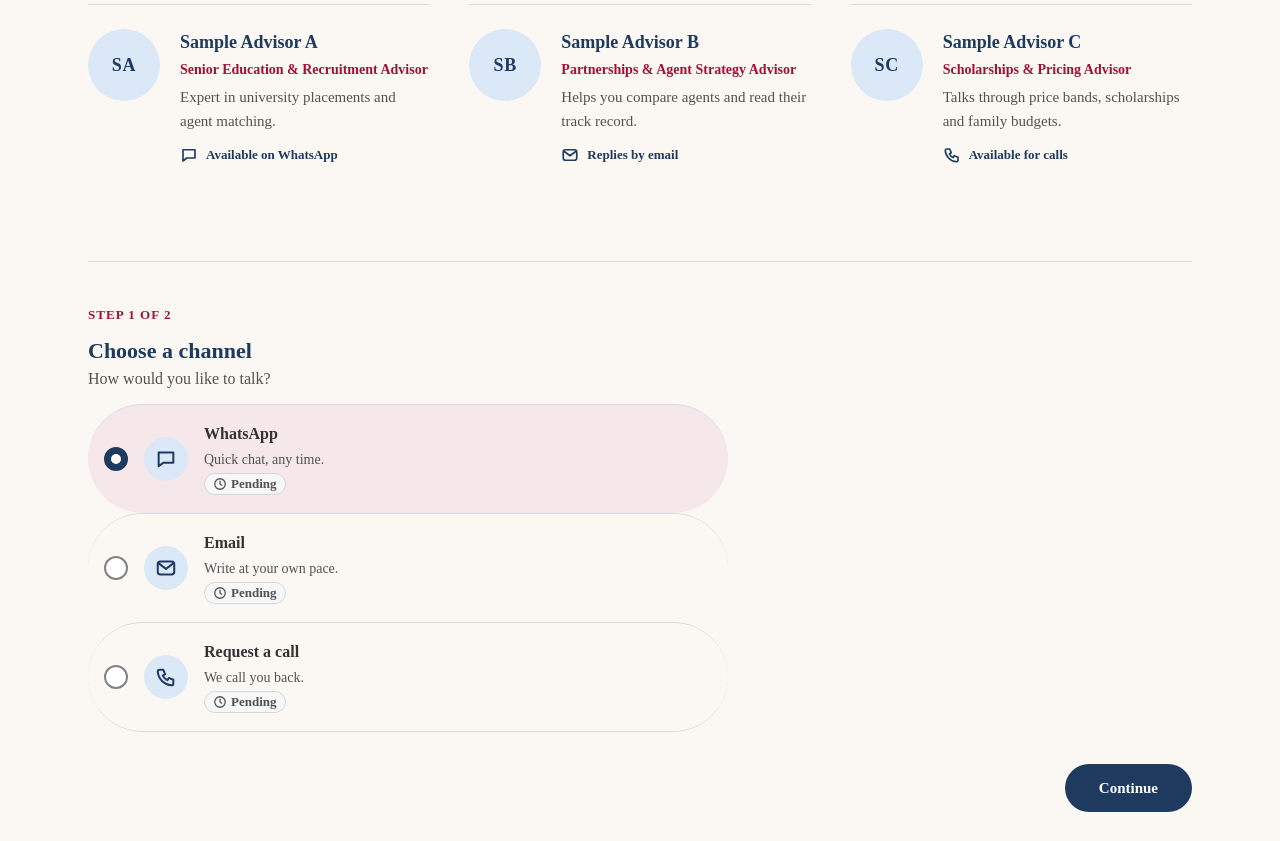
AdvisorRequest › posts a valid request and shows the success state with the first name and chips
The image size is (1280, 841).
(page scrolled)
Click the button "Continue" at coordinates (1128, 788), box [1065,764,1192,812]
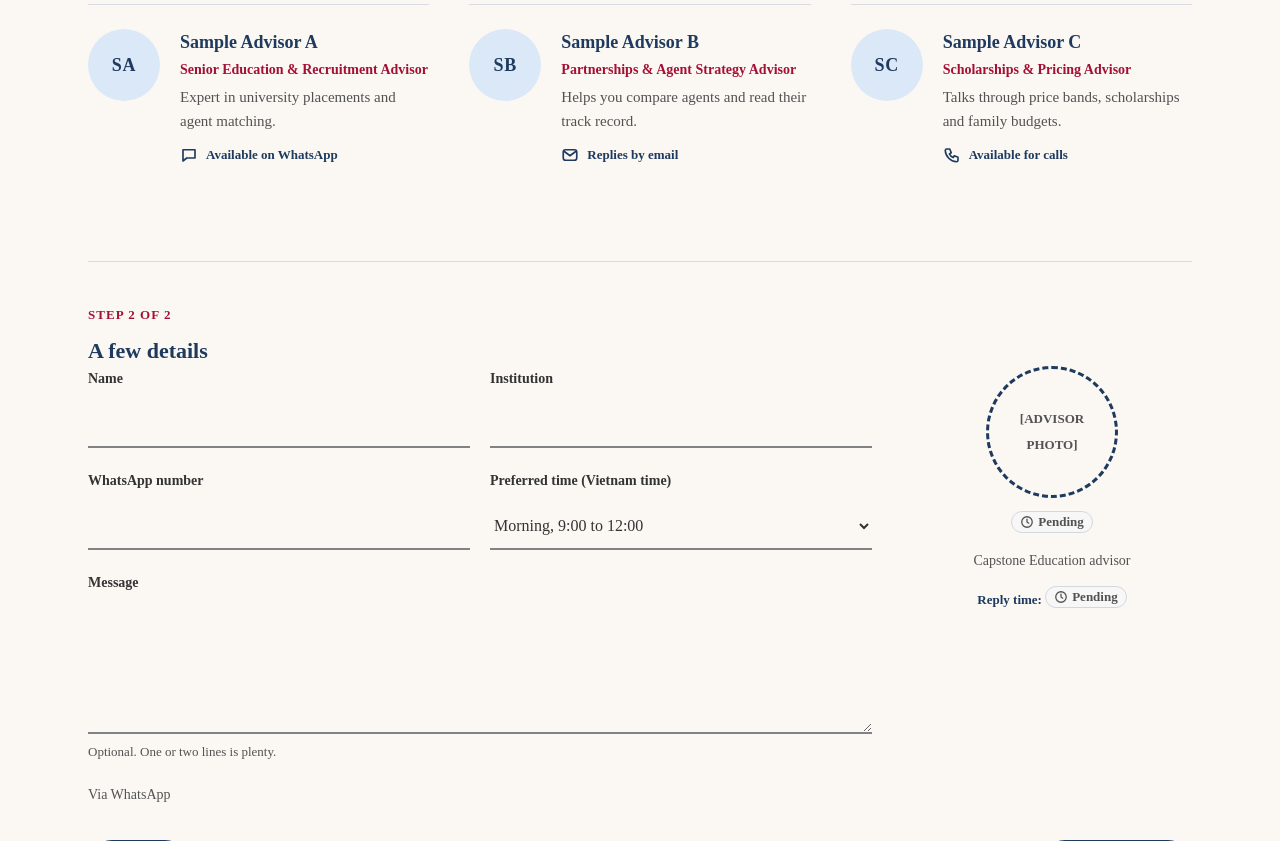
Type "Linh Tran" into the field labelled "Name" at coordinates (279, 424), box [88,400,470,448]
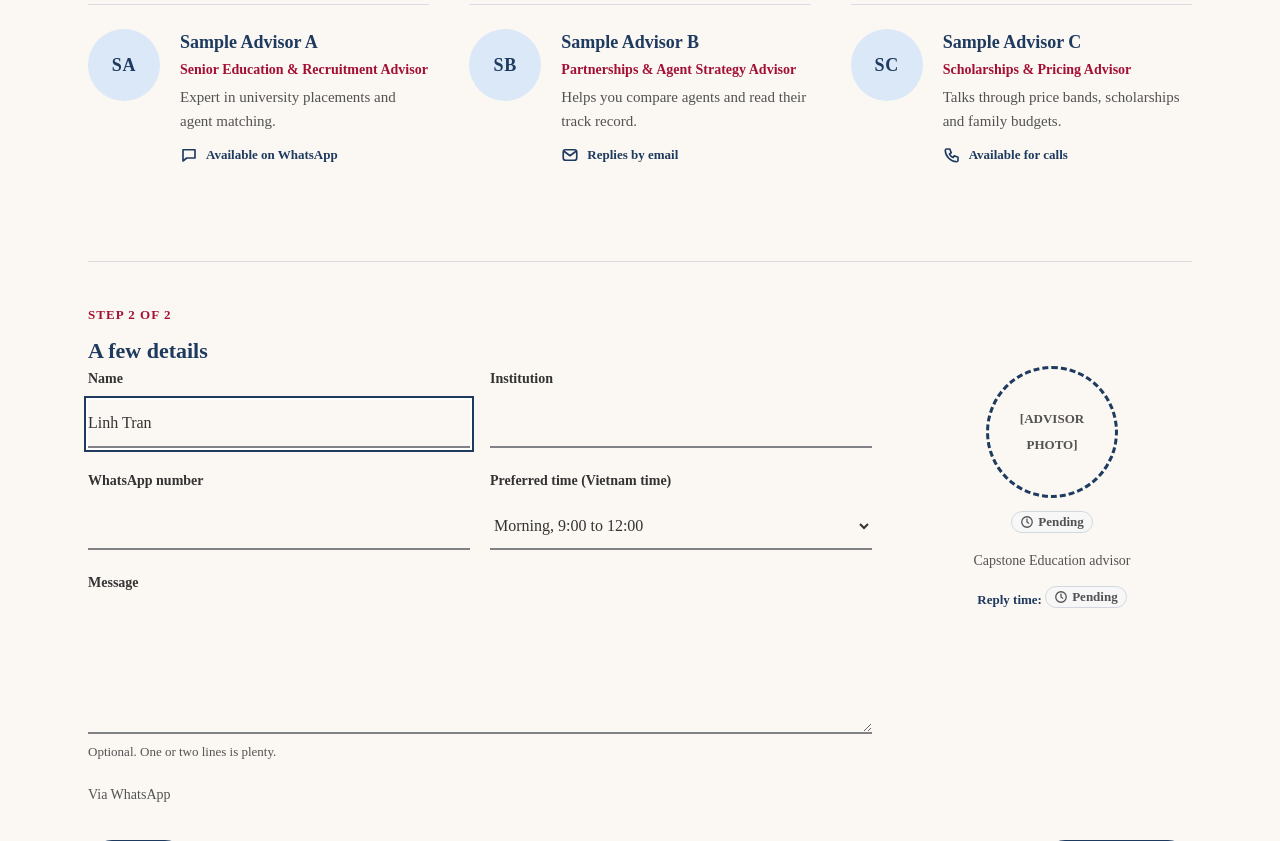
Type "+84 90 123 4567" into the field labelled "WhatsApp number" at coordinates (279, 526), box [88,502,470,550]
(page scrolled)
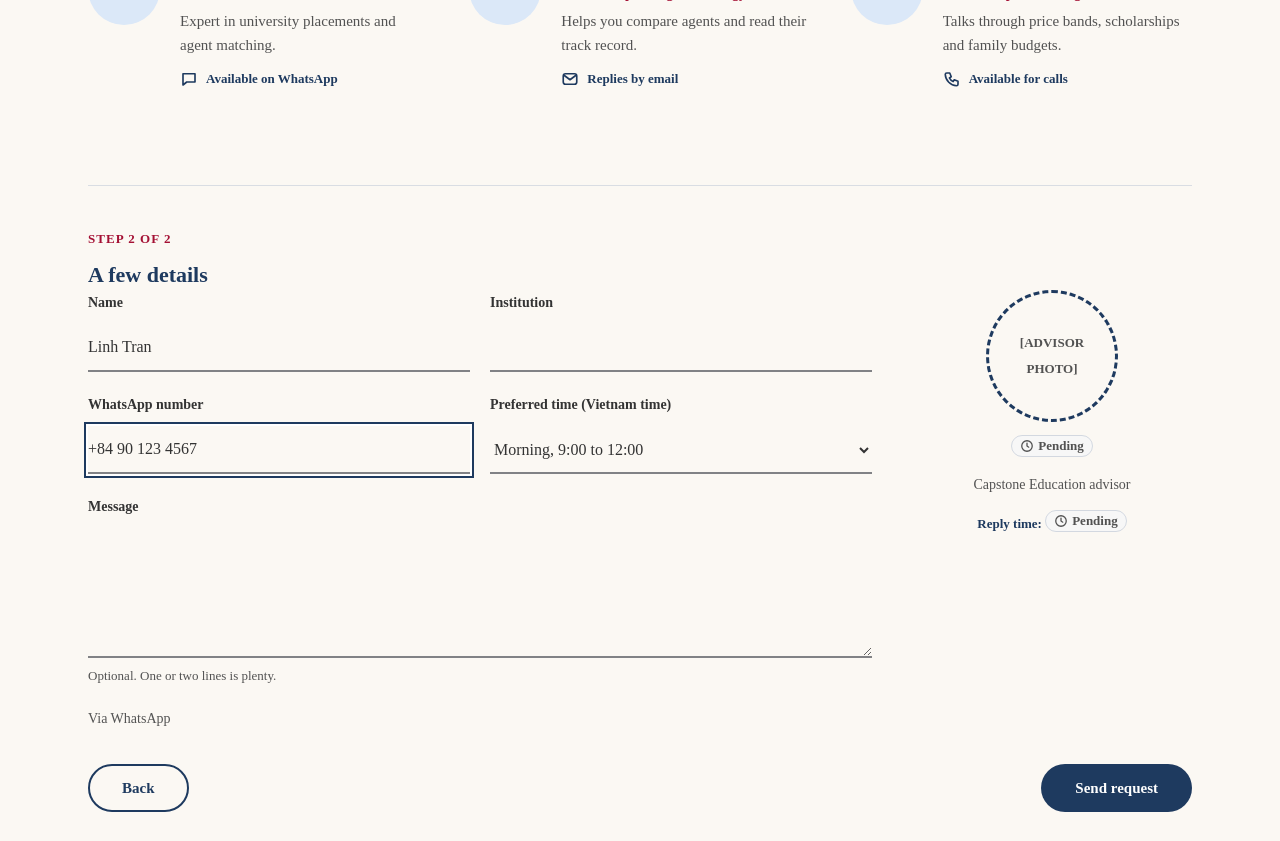
Click the button "Send request" at coordinates (1117, 788), box [1041,764,1192,812]
(page scrolled)
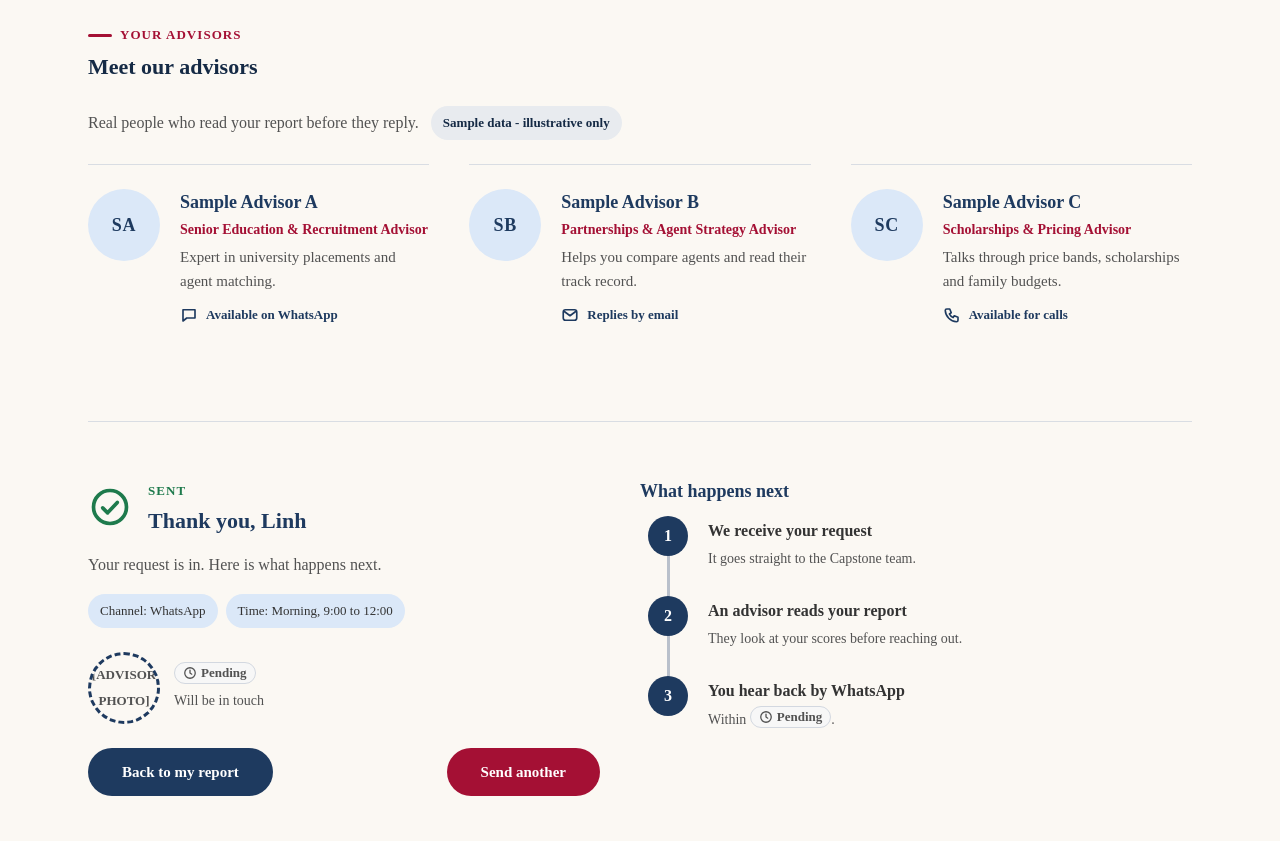
Now the heading "Thank you, Linh" is shown, box [148,506,306,536]
Now the list item "Channel: WhatsApp" is shown, box [88,594,218,628]
Now the list item "Time: Morning, 9:00 to 12:00" is shown, box [226,594,405,628]
